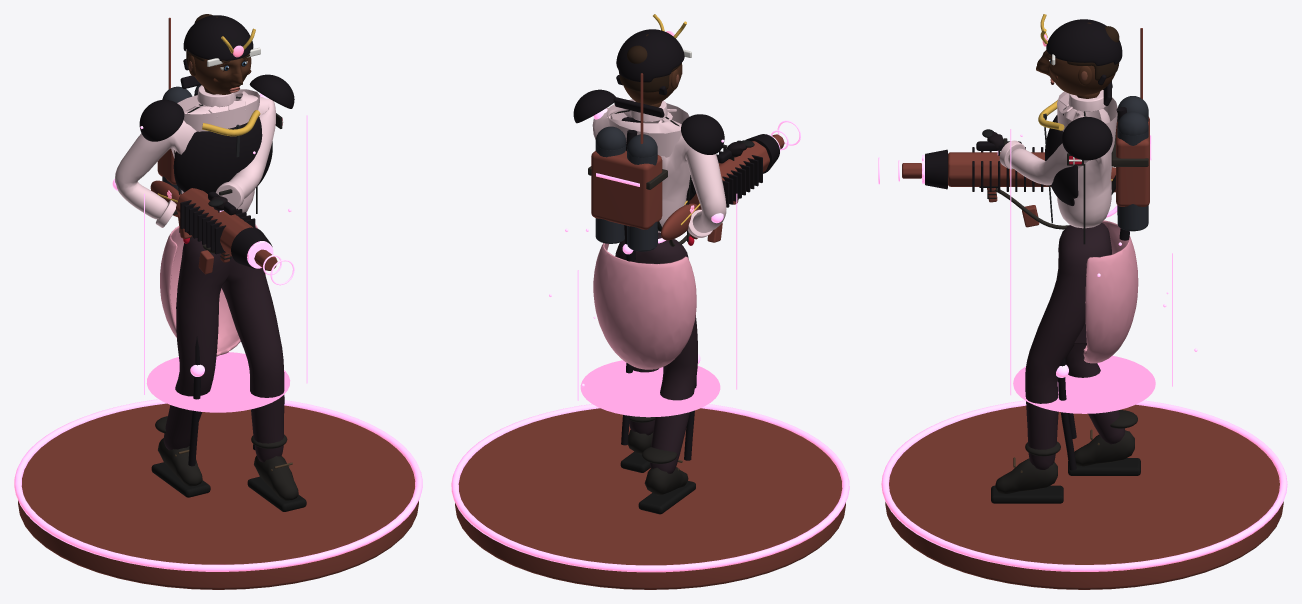
Rendered from straale_sakura.glb.
3 views of the same model, side by side, from view 1: azimuth 30°, elevation 25°; view 2: azimuth 150°, elevation 25°; view 3: azimuth 270°, elevation 25° (orthographic). The views are drawn at different scales.
Parts seen in each view (by area): view 1: fod_net, menneske_net, op2.001_net, op4.002_net, hoved_net, vaaben_net, op4_net, op3_net; view 2: fod_net, menneske_net, op4.002_net, op3_net, hoved_net, vaaben_net, op2.001_net, op4_net; view 3: fod_net, menneske_net, hoved_net, op4.002_net, vaaben_net, op2.001_net, op3_net, op4_net.
Boxes of the visible parts, bbox=[...] form: fod_net: bbox=[14, 399, 422, 589]; menneske_net: bbox=[115, 85, 306, 511]; op2.001_net: bbox=[139, 74, 294, 193]; op4.002_net: bbox=[140, 115, 307, 412]; hoved_net: bbox=[180, 14, 260, 94]; vaaben_net: bbox=[150, 180, 273, 268]; op4_net: bbox=[112, 90, 268, 466]; op3_net: bbox=[157, 17, 176, 184]; fod_net: bbox=[451, 404, 849, 589]; menneske_net: bbox=[588, 99, 754, 514]; op4.002_net: bbox=[549, 139, 737, 417]; op3_net: bbox=[591, 73, 662, 229]; hoved_net: bbox=[613, 14, 691, 117]; vaaben_net: bbox=[657, 134, 780, 240]; op2.001_net: bbox=[573, 89, 724, 200]; op4_net: bbox=[593, 108, 723, 460]; fod_net: bbox=[881, 400, 1287, 589]; menneske_net: bbox=[982, 90, 1148, 503]; hoved_net: bbox=[1036, 14, 1122, 105]; op4.002_net: bbox=[1010, 129, 1197, 413]; vaaben_net: bbox=[922, 141, 1115, 194]; op2.001_net: bbox=[1038, 84, 1112, 205]; op3_net: bbox=[1116, 28, 1151, 206]; op4_net: bbox=[1056, 107, 1129, 470].
Size of the model in its own units: 1.94 by 2.55 by 1.95.
